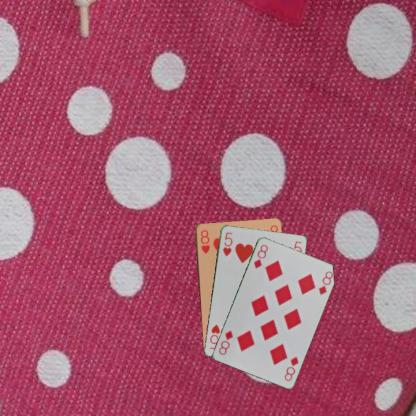5h: (220, 229, 234, 257)
8d: (282, 354, 300, 382), (251, 242, 269, 269)
8h: (197, 227, 211, 255)
